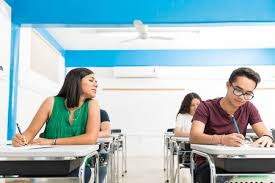student_copying: (13, 62, 109, 158)
